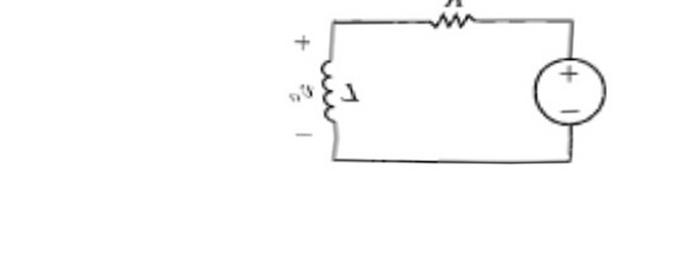Battery: (512, 43, 631, 142)
